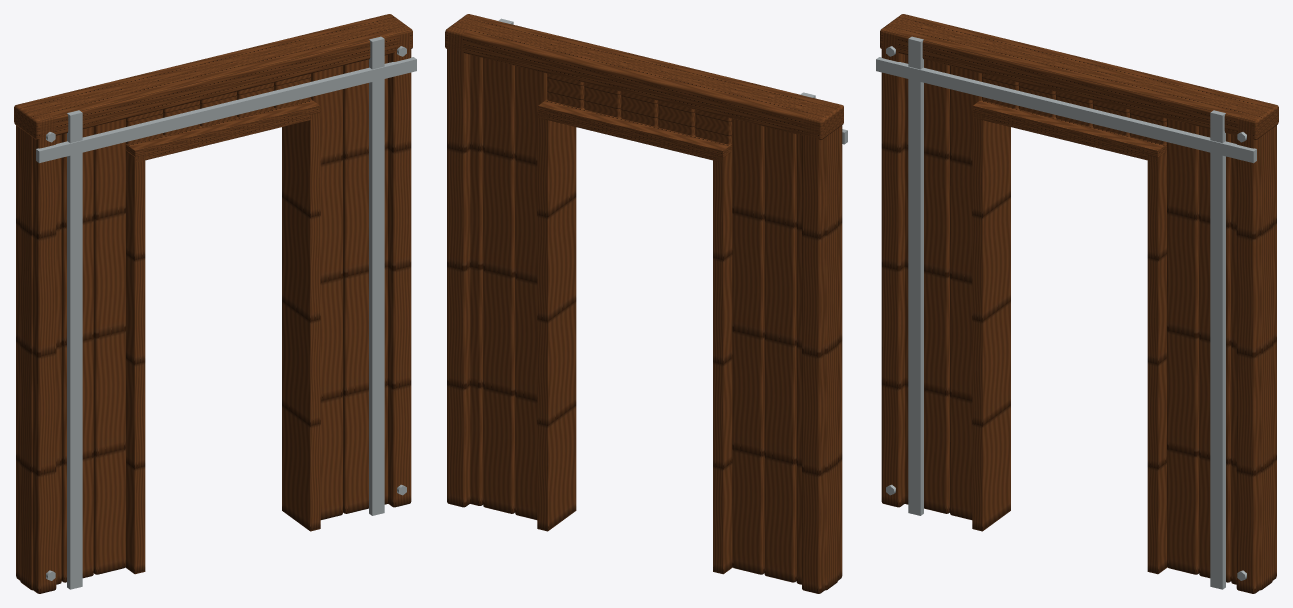
Rendered from modular-survival-base-builder-wall-door-opening-reinfo-eedab2b3__24287.glb.
3 views of the same model, side by side, from view 1: azimuth 30°, elevation 25°; view 2: azimuth 150°, elevation 25°; view 3: azimuth 330°, elevation 25° (orthographic).
Parts seen in each view (by area): view 1: wall-door-opening-reinforced; view 2: wall-door-opening-reinforced; view 3: wall-door-opening-reinforced.
Boxes of the visible parts, x1,y1,x2,y2 form: wall-door-opening-reinforced: (14, 14, 416, 593); wall-door-opening-reinforced: (445, 14, 847, 593); wall-door-opening-reinforced: (876, 14, 1278, 593).
Size of the model in its own units: 2 by 2.4 by 0.262.
Materials: 2 (1 with a texture image).
